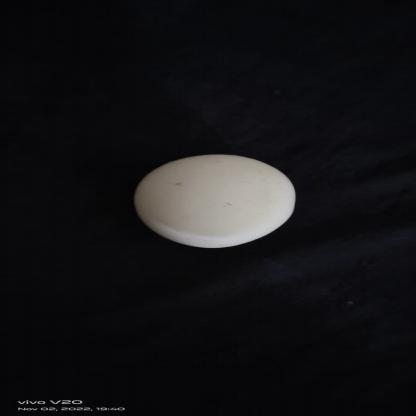egg: (133, 152, 296, 250)
